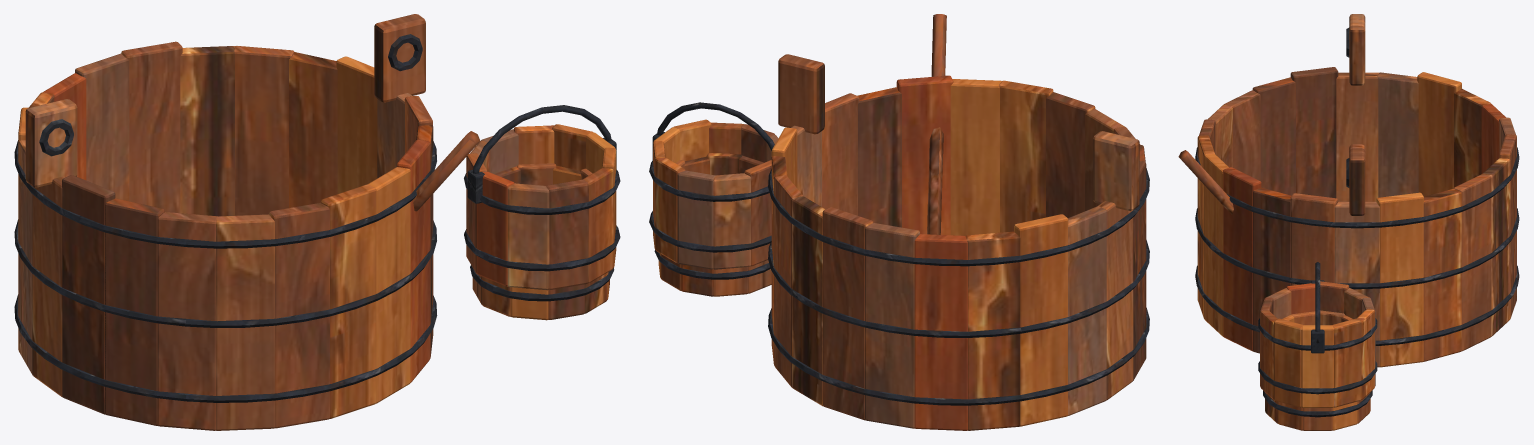
File: mp_bailing_tub.glb
3 views of the same model, side by side, from view 1: azimuth 30°, elevation 25°; view 2: azimuth 150°, elevation 25°; view 3: azimuth 270°, elevation 25° (orthographic). The views are drawn at different scales.
Parts seen in each view (by area): view 1: model; view 2: model; view 3: model.
Part boxes in pixels (x1,y1,x2,y2): model: (14,14,620,430); model: (649,14,1149,430); model: (1178,14,1519,430).
Size of the model in its own units: 1.25 by 0.6 by 0.8622.
Materials: 11 (11 with a texture image).
